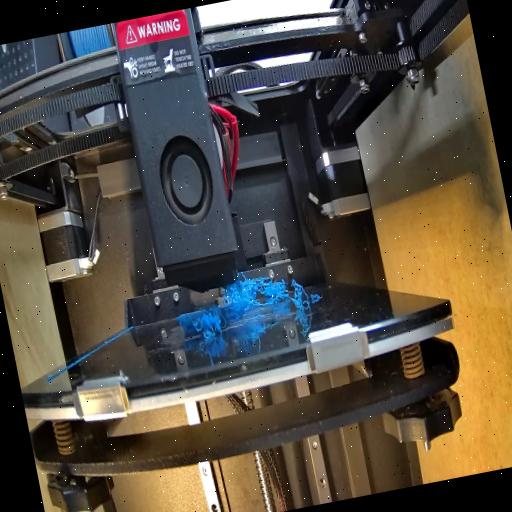spaghetti: (216, 267, 293, 318), (188, 296, 230, 340), (289, 272, 316, 318)
